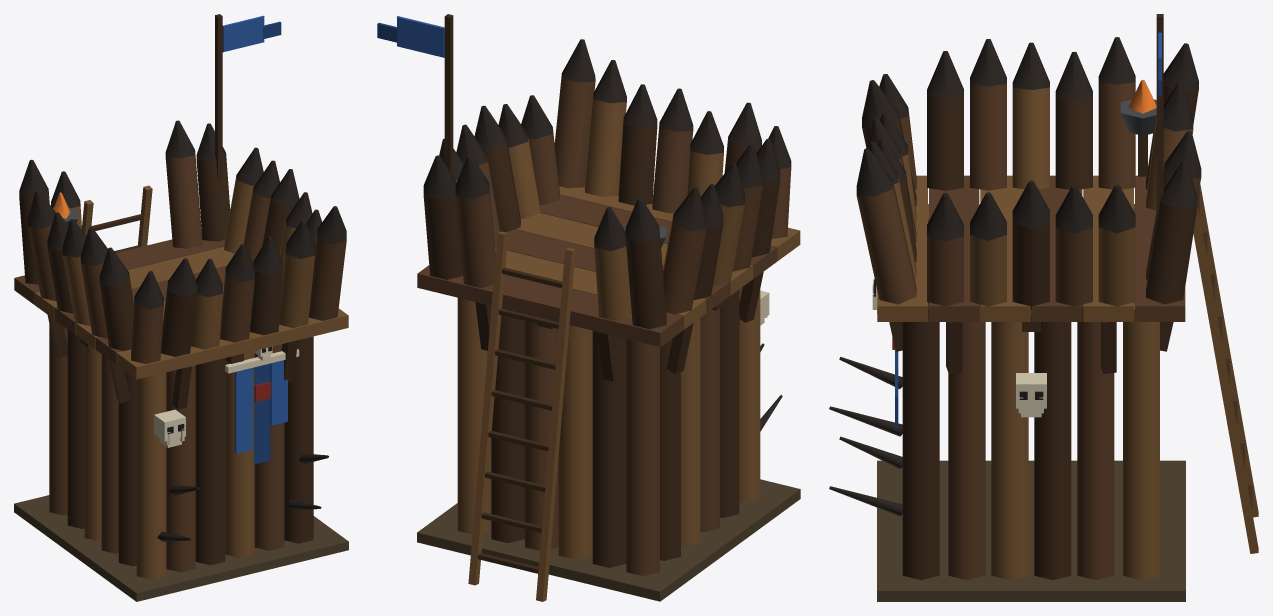
The model's file is orc-palisade-tower.glb.
3 views of the same model, side by side, from view 1: azimuth 30°, elevation 25°; view 2: azimuth 150°, elevation 25°; view 3: azimuth 270°, elevation 25° (orthographic). The views are drawn at different scales.
Parts seen in each view (by area): view 1: orc-palisade-tower; view 2: orc-palisade-tower; view 3: orc-palisade-tower.
Part boxes in pixels (x1,y1,x2,y2): orc-palisade-tower: (14, 14, 348, 601); orc-palisade-tower: (377, 14, 800, 601); orc-palisade-tower: (829, 14, 1258, 601).
Bounding box in the file's own units: 4.57 × 7.4 × 5.01.
1 material, 1 textured.
